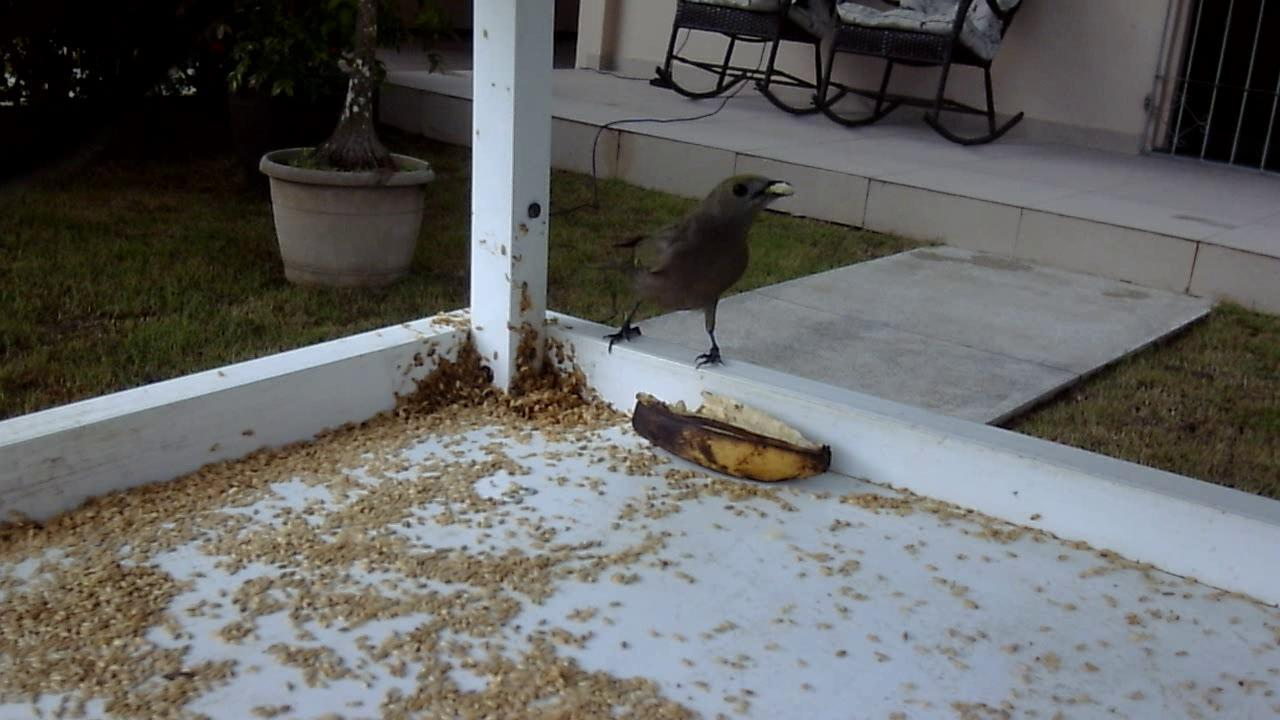sanhaco_do_coqueiro: (591, 165, 796, 378)
